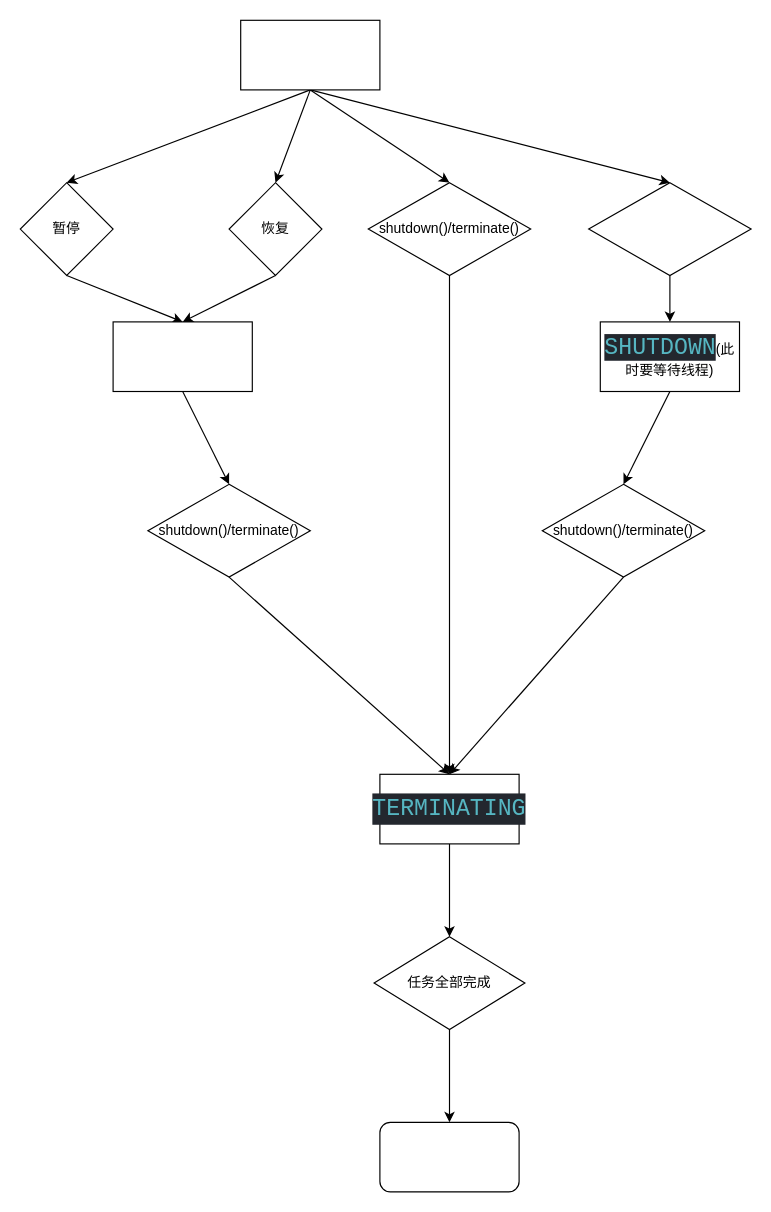
The diagram is 771 pixels wide and 1212 high, and some of its shapes have lost their labels. The shapes that lost their labels are listed below. From the top down, each one's centre as x and y in pixels, then its label:
At point (310, 54): "RUNNING".
At point (669, 229): "暂停(shutdown_wait)".
At point (182, 356): "PAUSED".
At point (449, 1156): "TERMINATED".
